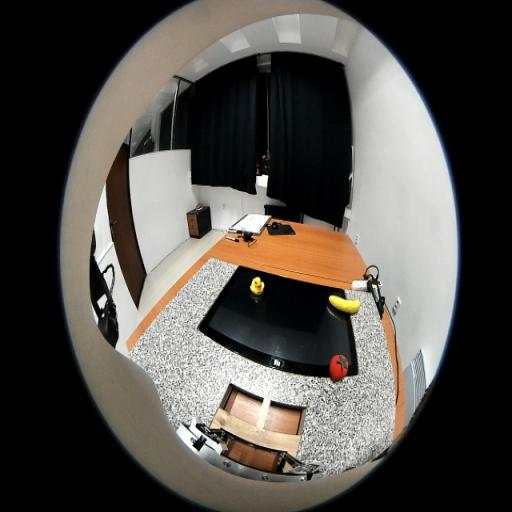Banana: (329, 295, 360, 313)
Duck: (250, 276, 265, 296)
Tomato: (330, 354, 348, 380)
